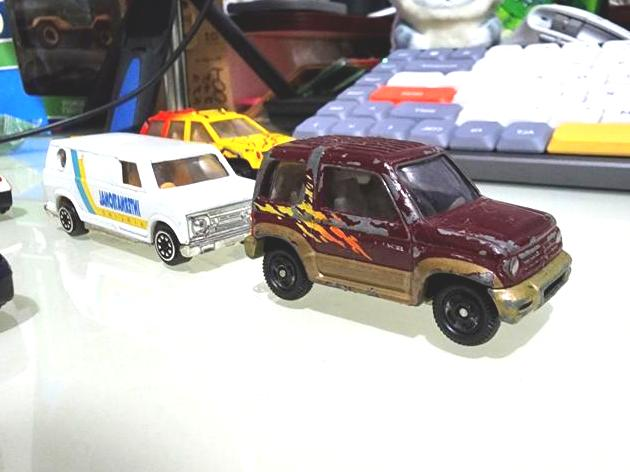toy-car: (243, 134, 574, 346), (42, 132, 256, 266), (138, 106, 297, 180)
